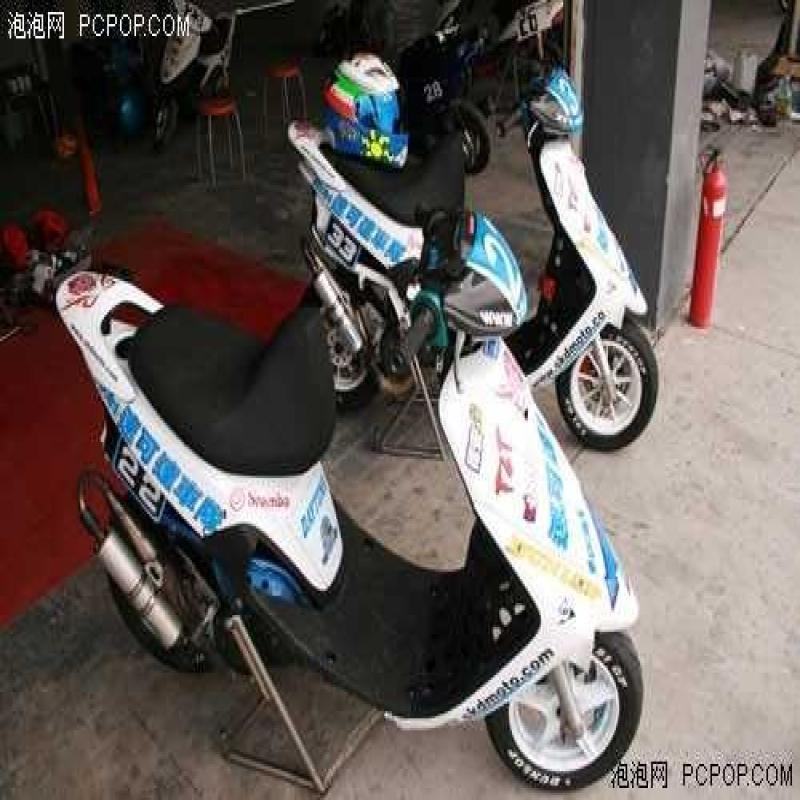bike: (62, 132, 613, 800)
